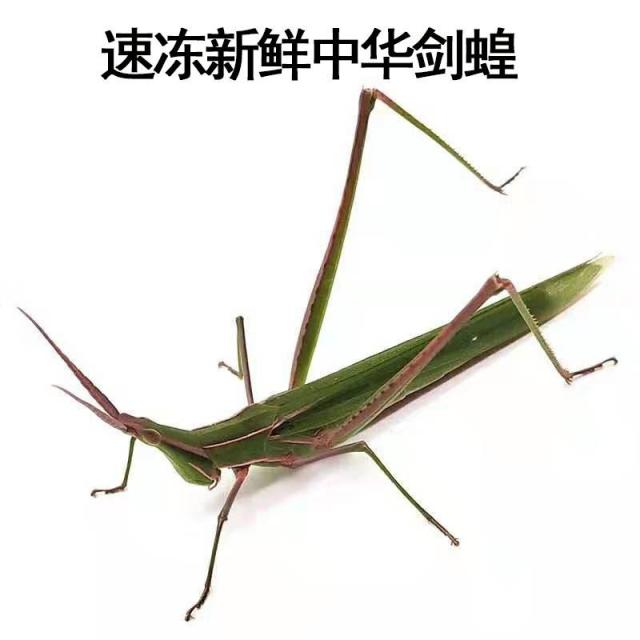ZhaMeng: (20, 88, 638, 544)
